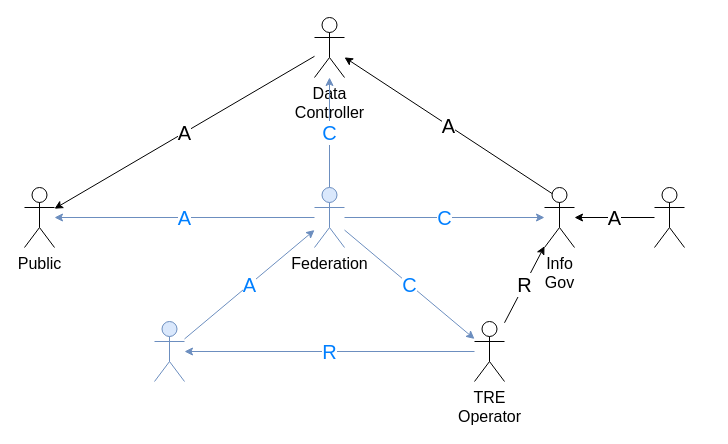
Some shapes in this 728 by 444 pixel diagram are drawn without their labels. Each missing label, with the centre of its shape:
Fed Svcs Operator: the point at 169,351
Researcher PI: the point at 669,217
